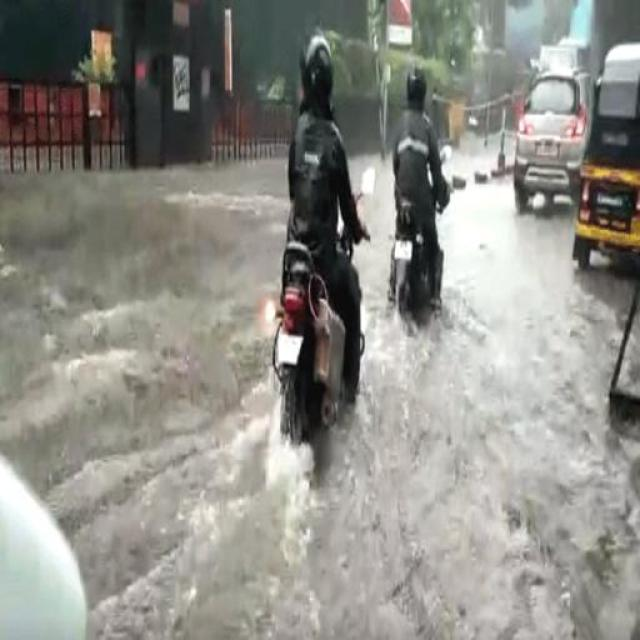puddle: (12, 186, 267, 555), (470, 202, 569, 541)
